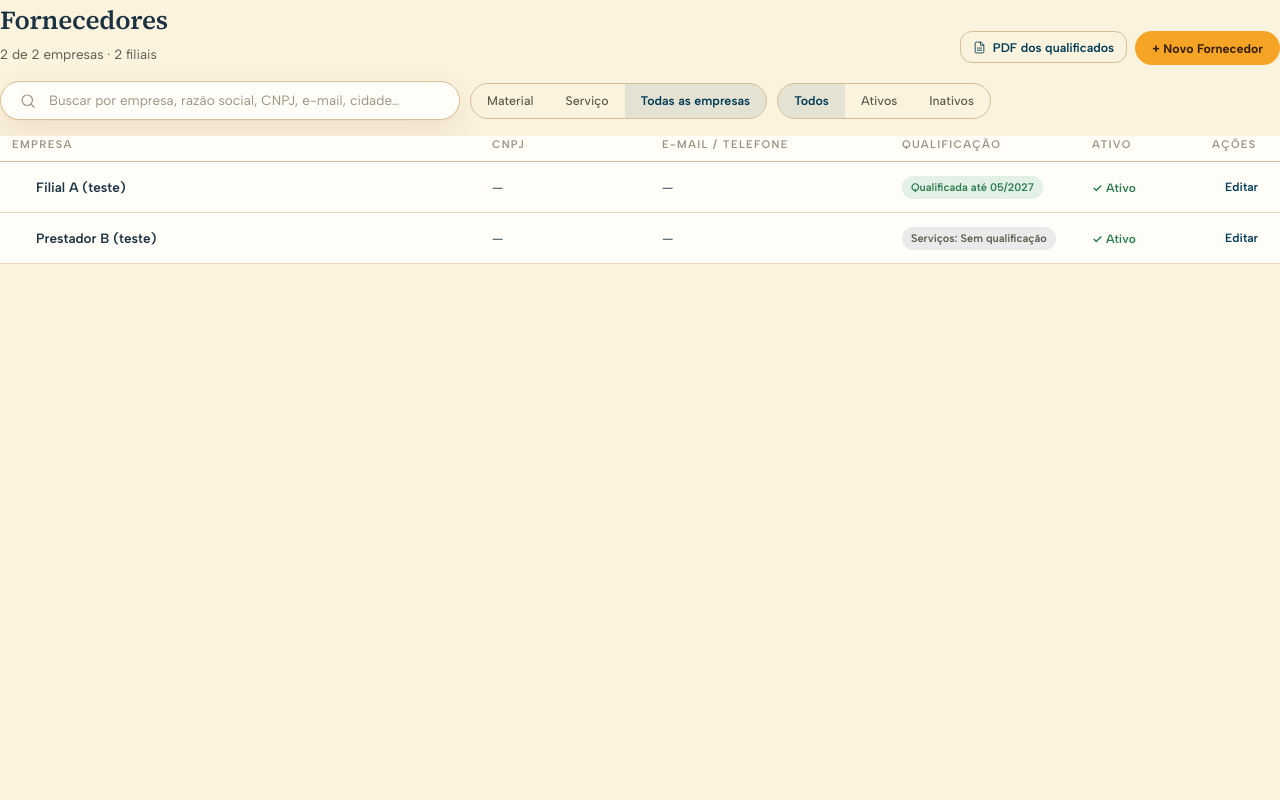
Test: D614 §2.1 — a gaveta mostra as ECRs da qualificação, só para ler › sem qualificação de material, a linha diz isso
The image size is (1280, 800).
Click the button "Editar" in the row of "Prestador B (teste)".
click(1242, 238)  # box [1215,224,1268,252]
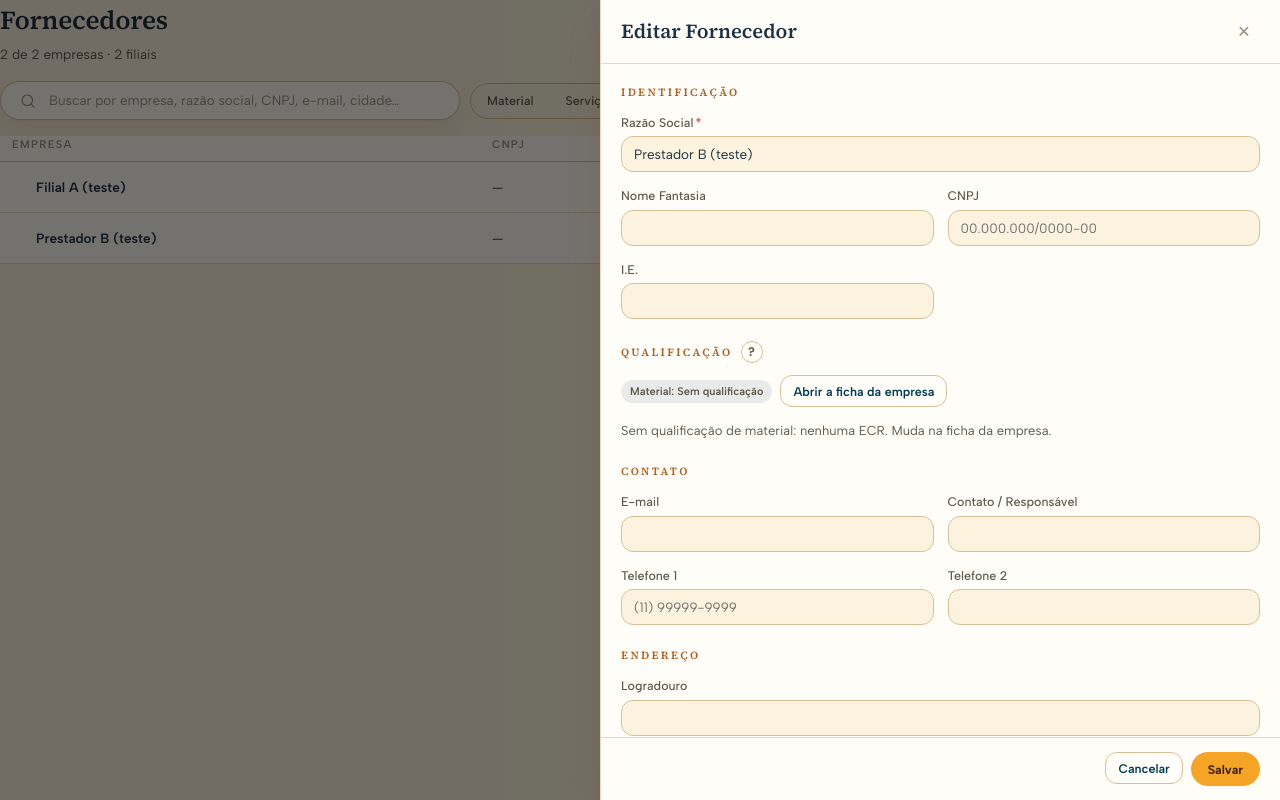
Check: the text "Sem qualificação de material: nenhuma ECR. Muda na ficha da empresa." is shown, box [621,423,1052,438]
